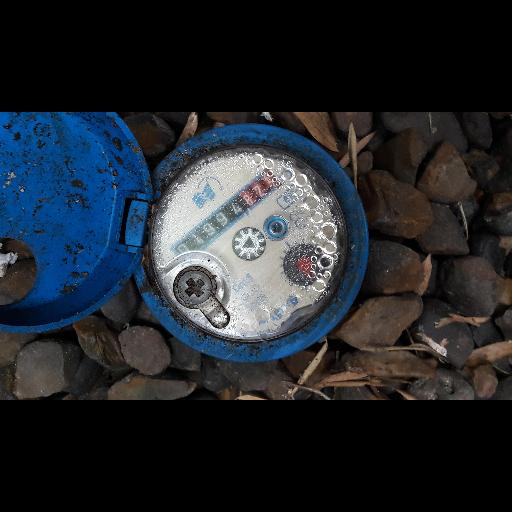0: (174, 240, 192, 258)
1: (187, 229, 207, 250)
2: (248, 180, 268, 201)
3: (258, 169, 283, 194)
4: (226, 197, 247, 219)
8: (239, 189, 258, 209)
9: (199, 219, 220, 240), (212, 209, 233, 230)
border_water_meter_number: (166, 164, 286, 270)
